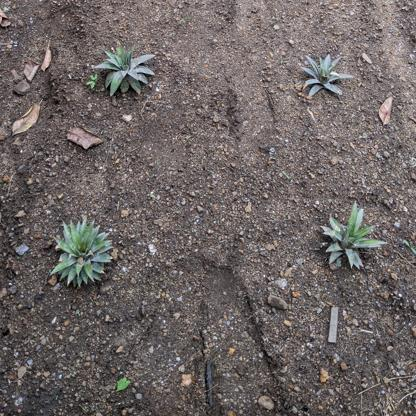pineapple: (318, 198, 389, 270), (51, 215, 116, 288), (91, 43, 156, 100), (297, 50, 353, 101)
